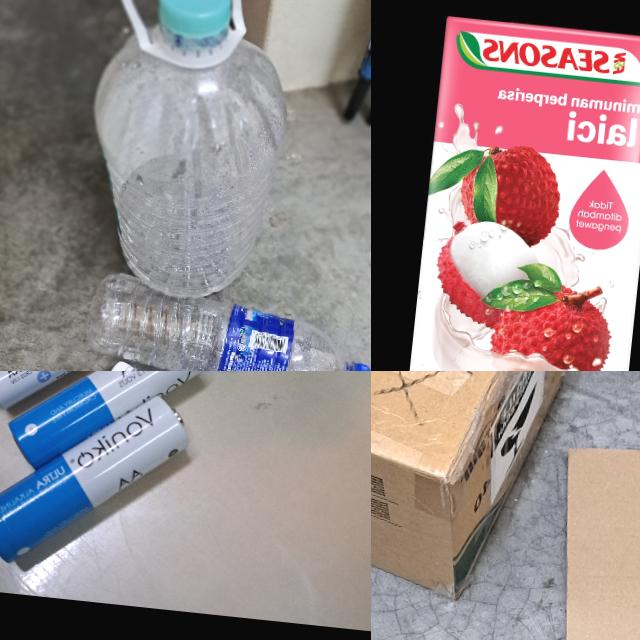bateria: (0, 378, 194, 580), (3, 371, 208, 483), (0, 371, 149, 424)
caixinha: (387, 8, 640, 371)
garrafa plástica: (72, 23, 286, 303), (76, 267, 343, 371)
papelão: (371, 371, 594, 606), (533, 426, 640, 640)
tampa plástica: (150, 0, 235, 47), (95, 354, 128, 371), (345, 359, 369, 371)
